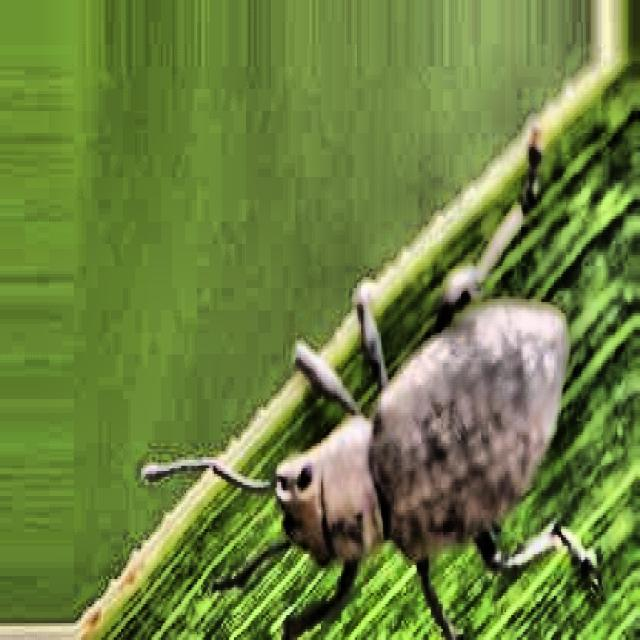Stink bug: (227, 154, 563, 640)
